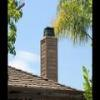chimneys: (40, 26, 58, 82)
